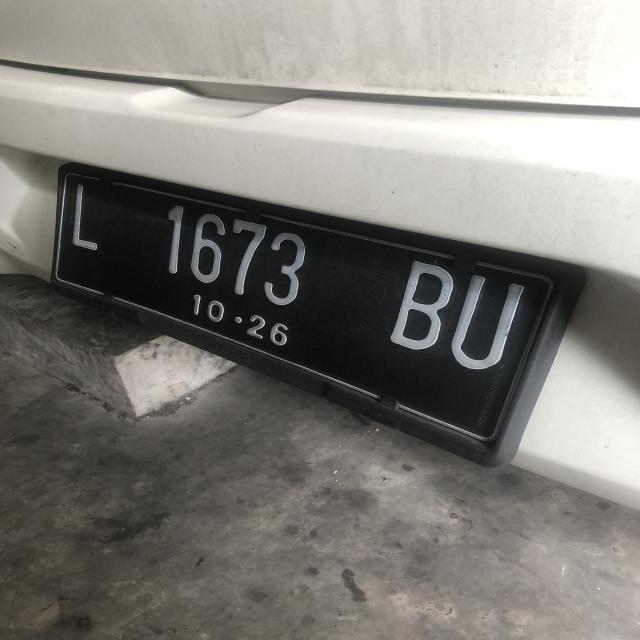1: (164, 202, 186, 276)
3: (262, 226, 314, 306)
6: (189, 210, 228, 282)
7: (232, 218, 265, 300)
B: (389, 252, 452, 354)
L: (70, 184, 102, 253)
U: (451, 266, 523, 371)
